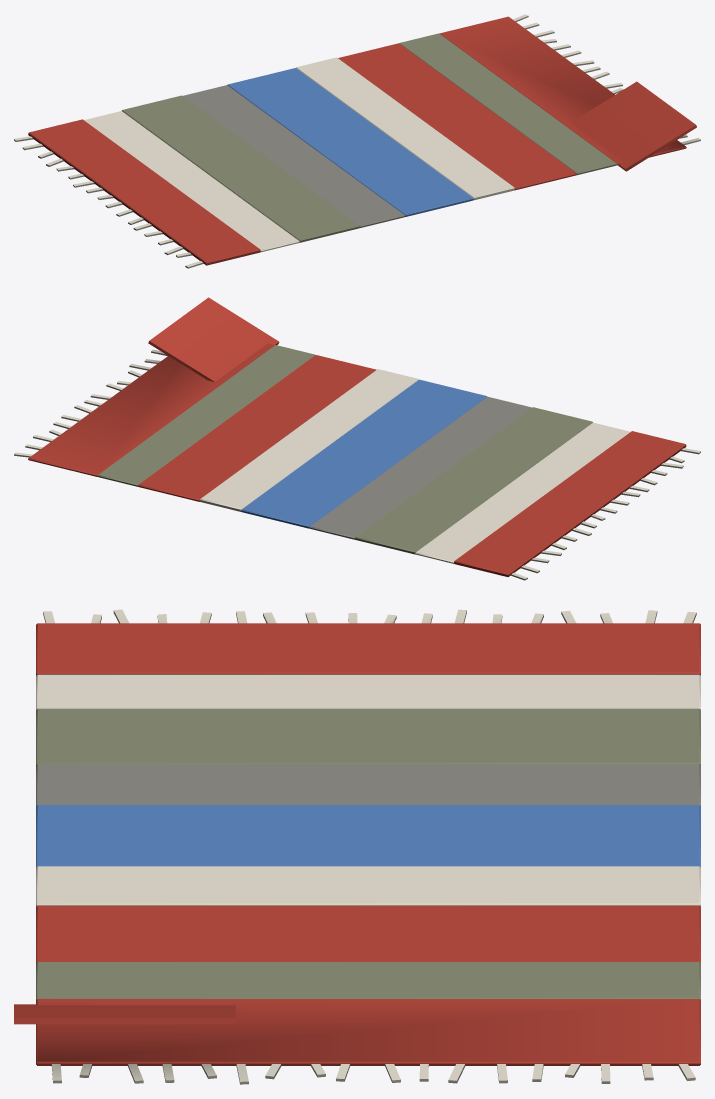
Rendered from rug.glb.
3 views of the same model, one above another, from view 1: azimuth 30°, elevation 25°; view 2: azimuth 150°, elevation 25°; view 3: azimuth 270°, elevation 25° (orthographic). The views are drawn at different scales.
Visible parts, largest first — view 1: static; view 2: static; view 3: static.
Part boxes in pixels (<box>): static: <box>14,14,700,268</box>; static: <box>14,297,700,580</box>; static: <box>14,609,700,1084</box>.
Bounding box in the file's own units: 1.51 × 0.083 × 0.93.
